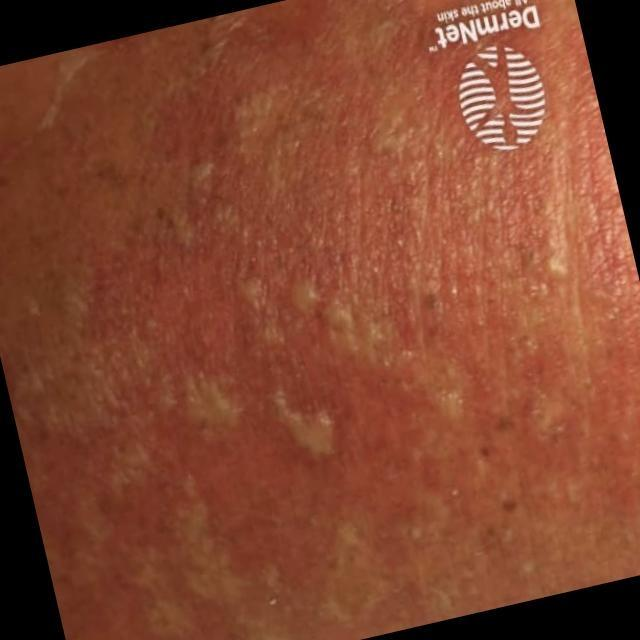Eczema: (12, 74, 564, 588)
